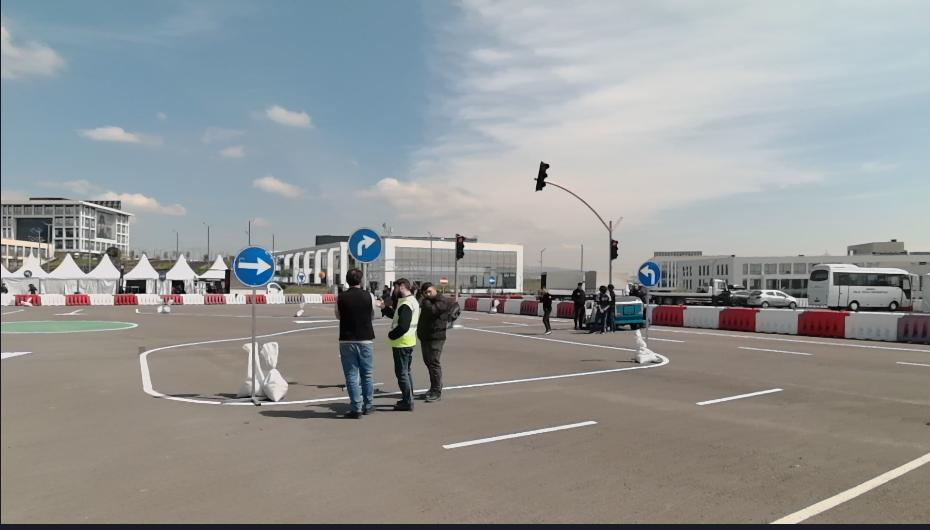nesne: (0, 329, 930, 529), (0, 329, 903, 530), (379, 355, 929, 527), (139, 323, 348, 406), (768, 451, 929, 526), (649, 304, 929, 341), (442, 348, 670, 389), (649, 324, 928, 352), (333, 268, 374, 421), (416, 281, 461, 400), (435, 417, 597, 450), (809, 262, 919, 310), (454, 324, 634, 352), (389, 275, 420, 411), (32, 292, 338, 304), (0, 318, 138, 334), (652, 275, 728, 304), (696, 384, 785, 406), (259, 341, 288, 403), (232, 247, 276, 286), (843, 310, 896, 340), (797, 308, 845, 340), (754, 306, 797, 334), (586, 282, 610, 332), (241, 342, 263, 395), (734, 343, 815, 357), (347, 227, 380, 261), (614, 294, 645, 330), (633, 326, 661, 364), (718, 307, 758, 333), (746, 288, 797, 307), (898, 313, 928, 344), (497, 297, 542, 316), (682, 306, 719, 329), (651, 303, 684, 328), (536, 287, 553, 333), (570, 280, 585, 332), (636, 259, 661, 288), (379, 281, 396, 316), (607, 281, 617, 335), (894, 356, 928, 367), (644, 332, 681, 342), (519, 299, 536, 316), (137, 294, 163, 305), (156, 297, 175, 312), (62, 294, 89, 304), (0, 349, 32, 357), (503, 298, 521, 312), (40, 294, 65, 304), (224, 293, 246, 304), (88, 294, 112, 304), (265, 293, 285, 305), (161, 294, 183, 304), (183, 294, 203, 305), (301, 294, 322, 304), (475, 298, 490, 312), (202, 294, 225, 303), (559, 301, 572, 316), (114, 295, 137, 303), (1, 294, 15, 307), (246, 294, 264, 304), (463, 298, 477, 310), (318, 294, 338, 302), (294, 271, 306, 284), (647, 303, 654, 325), (491, 298, 500, 315), (283, 294, 302, 302), (489, 298, 498, 314), (550, 301, 559, 317), (27, 282, 38, 294), (295, 304, 305, 316), (495, 299, 504, 312), (457, 295, 465, 309), (157, 271, 167, 282), (22, 268, 32, 278), (19, 296, 30, 305), (439, 276, 448, 285), (0, 280, 7, 291), (33, 295, 41, 303)
